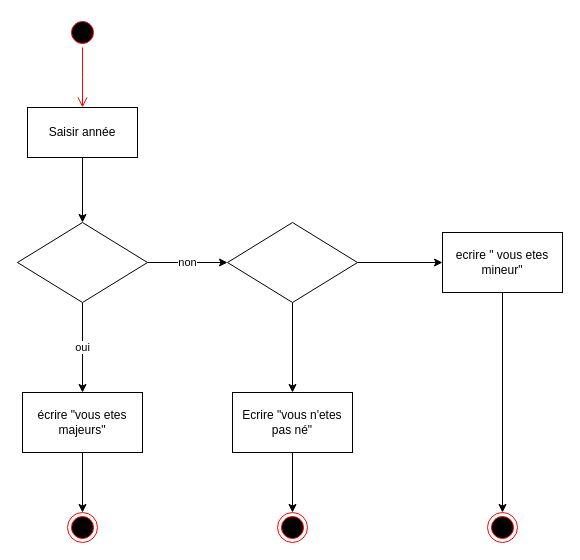
The diagram is 580 pixels wide and 560 high, and some of its shapes have lost their labels. Each missing label, with the centre of its shape:
"année<0" belongs at point (292, 262).
"année>=18" belongs at point (82, 262).
